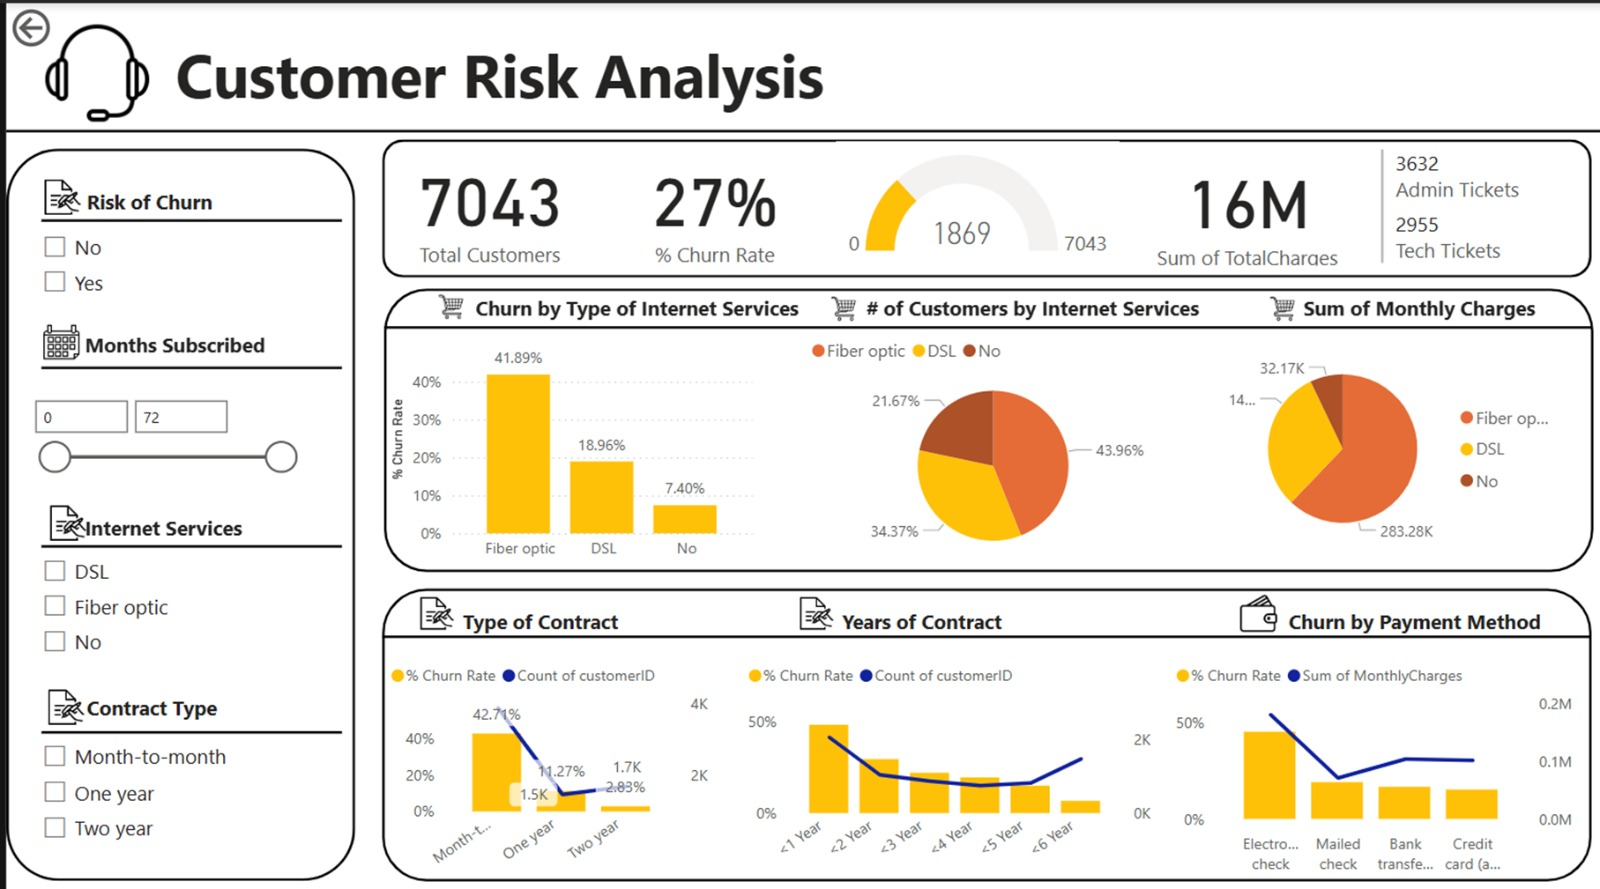

This screenshot's page, from the dashboard's own definition file:
{"tool":"powerbi","page":{"name":"Page 3","canvas":[1280,720],"ordinal":1},"visuals":[{"type":"shape","box":[0,117.5,280,591.2],"z":0},{"type":"shape","box":[301.7,110,970.6,111.5],"z":1000},{"type":"shape","box":[301.7,472.7,970.6,236.3],"z":2000},{"type":"shape","box":[303.2,230.4,970.6,228.9],"z":3000},{"type":"shape","box":[0,89.2,1279.8,28.2],"z":4000},{"type":"slicer","fields":{"Values":["01 Churn-Dataset.Churn"]},"box":[17.8,176.9,165,95.1],"z":5000},{"type":"actionButton","box":[0,0,100,40],"z":6000},{"type":"slicer","fields":{"Values":["01 Churn-Dataset.tenure"]},"box":[10,310,231.2,98.8],"z":7000},{"type":"slicer","fields":{"Values":["01 Churn-Dataset.InternetService"]},"box":[17.5,438.8,202.5,125],"z":8000},{"type":"slicer","fields":{"Values":["01 Churn-Dataset.Contract"]},"box":[17.5,588.8,262.5,131.2],"z":9000},{"type":"card","fields":{"Values":["calculations2.customers"]},"box":[306.2,113,163.5,102.6],"z":10000},{"type":"card","fields":{"Values":["calculations.% Churn Rate"]},"box":[471.2,113,194.7,102.6],"z":11000},{"type":"card","fields":{"Values":["Sum(01 Churn-Dataset.TotalCharges)"]},"box":[893.3,115.9,205.1,101.1],"z":12000},{"type":"columnChart","fields":{"Category":["01 Churn-Dataset.InternetService"],"Y":["calculations.% Churn Rate"]},"box":[303.8,261.2,301.2,196.2],"z":13000},{"type":"pieChart","fields":{"Category":["01 Churn-Dataset.InternetService"],"Y":["CountNonNull(01 Churn-Dataset.customerID)"]},"box":[640,260,302.5,197.5],"z":14000},{"type":"pieChart","fields":{"Category":["01 Churn-Dataset.InternetService"],"Y":["Sum(01 Churn-Dataset.MonthlyCharges)"]},"box":[973.8,260,278.8,198.8],"z":15000},{"type":"lineStackedColumnComboChart","fields":{"Category":["01 Churn-Dataset.Contract"],"Y":["calculations.% Churn Rate"],"Y2":["CountNonNull(01 Churn-Dataset.customerID)"]},"box":[303.8,522.5,265,186.2],"z":16000},{"type":"lineStackedColumnComboChart","fields":{"Category":["01 Churn-Dataset.TenureYear"],"Y2":["CountNonNull(01 Churn-Dataset.customerID)"],"Y":["calculations.% Churn Rate"]},"box":[590,522.5,333.8,187.5],"z":17000},{"type":"lineStackedColumnComboChart","fields":{"Y2":["Sum(01 Churn-Dataset.MonthlyCharges)"],"Category":["01 Churn-Dataset.PaymentMethod"],"Y":["calculations.% Churn Rate"]},"box":[933.8,522.5,328.8,186.2],"z":18000},{"type":"shape","box":[301.2,501.2,970,21.2],"z":19000},{"type":"shape","box":[303.8,251.2,970,21.2],"z":20000},{"type":"shape","box":[27.5,160,241.2,30],"z":21000},{"type":"shape","box":[27.5,280,241.2,30],"z":22000},{"type":"shape","box":[27.5,423.8,241.2,30],"z":23000},{"type":"shape","box":[27.5,573.8,241.2,30],"z":24000},{"type":"textbox","box":[58.8,143.8,143.8,31.2],"z":25000},{"type":"textbox","box":[58.5,259.9,182.8,34.8],"z":26000},{"type":"textbox","box":[58.5,408,144.3,32.3],"z":27000},{"type":"textbox","box":[58.8,552.5,210,31],"z":28000},{"type":"image","box":[23.8,133.8,41.2,46.2],"z":29000},{"type":"image","box":[27.5,396.2,41,46],"z":30000},{"type":"image","box":[26.2,545,41.2,46.2],"z":31000},{"type":"image","box":[23.8,251.2,41.2,46],"z":32000},{"type":"multiRowCard","fields":{"Values":["Sum(01 Churn-Dataset.numAdminTickets)","Sum(01 Churn-Dataset.numTechTickets)"]},"box":[1098.5,113,141.2,111.5],"z":33000},{"type":"gauge","fields":{"MaxValue":["CountNonNull(01 Churn-Dataset.customerID)"],"Y":["calculations2.Churn Count"]},"box":[665.9,111.5,227.4,104],"z":34000},{"type":"textbox","box":[130.8,19.3,735.8,84.7],"z":35000},{"type":"image","box":[23.8,10.4,98.1,93.6],"z":36000},{"type":"textbox","box":[1036,230.4,217,41.6],"z":37000},{"type":"textbox","box":[685.2,230.4,288.4,41.6],"z":38000},{"type":"textbox","box":[371.6,230.4,280.9,41.6],"z":39000},{"type":"textbox","box":[1024.1,483.1,248.2,40.1],"z":40000},{"type":"textbox","box":[665.9,483.1,258.6,38.6],"z":41000},{"type":"textbox","box":[361.2,483.1,208.1,38.6],"z":42000},{"type":"image","box":[338,230.4,38.6,29.7],"z":43000},{"type":"image","box":[652.5,231.9,38.6,29.7],"z":44000},{"type":"image","box":[1004.8,231.9,38.6,29.7],"z":45000},{"type":"image","box":[983.8,472.6,42.3,39.8],"z":46000},{"type":"image","box":[326,472.6,38.6,39.8],"z":47000},{"type":"image","box":[630,472.6,38.6,39.8],"z":48000}]}

Visuals, with their boxes in screenshot pixels (x1, y1, x2, y2), scaled from the page's 1280x720 canvas onto the 1600x889 screenshot:
shape: pyautogui.locateOnScreen(0, 145, 350, 875)
shape: pyautogui.locateOnScreen(377, 136, 1590, 273)
shape: pyautogui.locateOnScreen(377, 584, 1590, 875)
shape: pyautogui.locateOnScreen(379, 284, 1592, 567)
shape: pyautogui.locateOnScreen(0, 110, 1599, 145)
slicer - 01 Churn-Dataset.Churn: pyautogui.locateOnScreen(22, 218, 228, 336)
actionButton: pyautogui.locateOnScreen(0, 0, 125, 49)
slicer - 01 Churn-Dataset.tenure: pyautogui.locateOnScreen(12, 383, 302, 505)
slicer - 01 Churn-Dataset.InternetService: pyautogui.locateOnScreen(22, 542, 275, 696)
slicer - 01 Churn-Dataset.Contract: pyautogui.locateOnScreen(22, 727, 350, 888)
card - calculations2.customers: pyautogui.locateOnScreen(383, 140, 587, 266)
card - calculations.% Churn Rate: pyautogui.locateOnScreen(589, 140, 832, 266)
card - Sum(01 Churn-Dataset.TotalCharges): pyautogui.locateOnScreen(1117, 143, 1373, 268)
columnChart - 01 Churn-Dataset.InternetService x calculations.% Churn Rate: pyautogui.locateOnScreen(380, 323, 756, 565)
pieChart - 01 Churn-Dataset.InternetService x CountNonNull(01 Churn-Dataset.customerID): pyautogui.locateOnScreen(800, 321, 1178, 565)
pieChart - 01 Churn-Dataset.InternetService x Sum(01 Churn-Dataset.MonthlyCharges): pyautogui.locateOnScreen(1217, 321, 1566, 566)
lineStackedColumnComboChart - 01 Churn-Dataset.Contract x calculations.% Churn Rate: pyautogui.locateOnScreen(380, 645, 711, 875)
lineStackedColumnComboChart - 01 Churn-Dataset.TenureYear x CountNonNull(01 Churn-Dataset.customerID): pyautogui.locateOnScreen(738, 645, 1155, 877)
lineStackedColumnComboChart - Sum(01 Churn-Dataset.MonthlyCharges) x 01 Churn-Dataset.PaymentMethod: pyautogui.locateOnScreen(1167, 645, 1578, 875)
shape: pyautogui.locateOnScreen(376, 619, 1589, 645)
shape: pyautogui.locateOnScreen(380, 310, 1592, 336)
shape: pyautogui.locateOnScreen(34, 198, 336, 235)
shape: pyautogui.locateOnScreen(34, 346, 336, 383)
shape: pyautogui.locateOnScreen(34, 523, 336, 560)
shape: pyautogui.locateOnScreen(34, 708, 336, 746)
textbox: pyautogui.locateOnScreen(74, 178, 253, 216)
textbox: pyautogui.locateOnScreen(73, 321, 302, 364)
textbox: pyautogui.locateOnScreen(73, 504, 254, 544)
textbox: pyautogui.locateOnScreen(74, 682, 336, 720)
image: pyautogui.locateOnScreen(30, 165, 81, 222)
image: pyautogui.locateOnScreen(34, 489, 86, 546)
image: pyautogui.locateOnScreen(33, 673, 84, 730)
image: pyautogui.locateOnScreen(30, 310, 81, 367)
multiRowCard - Sum(01 Churn-Dataset.numAdminTickets) x Sum(01 Churn-Dataset.numTechTickets): pyautogui.locateOnScreen(1373, 140, 1550, 277)
gauge - CountNonNull(01 Churn-Dataset.customerID) x calculations2.Churn Count: pyautogui.locateOnScreen(832, 138, 1117, 266)
textbox: pyautogui.locateOnScreen(164, 24, 1083, 128)
image: pyautogui.locateOnScreen(30, 13, 152, 128)
textbox: pyautogui.locateOnScreen(1295, 284, 1566, 336)
textbox: pyautogui.locateOnScreen(856, 284, 1217, 336)
textbox: pyautogui.locateOnScreen(464, 284, 816, 336)
textbox: pyautogui.locateOnScreen(1280, 596, 1590, 646)
textbox: pyautogui.locateOnScreen(832, 596, 1156, 644)
textbox: pyautogui.locateOnScreen(452, 596, 712, 644)
image: pyautogui.locateOnScreen(422, 284, 471, 321)
image: pyautogui.locateOnScreen(816, 286, 864, 323)
image: pyautogui.locateOnScreen(1256, 286, 1304, 323)
image: pyautogui.locateOnScreen(1230, 584, 1283, 633)
image: pyautogui.locateOnScreen(408, 584, 456, 633)
image: pyautogui.locateOnScreen(788, 584, 836, 633)
